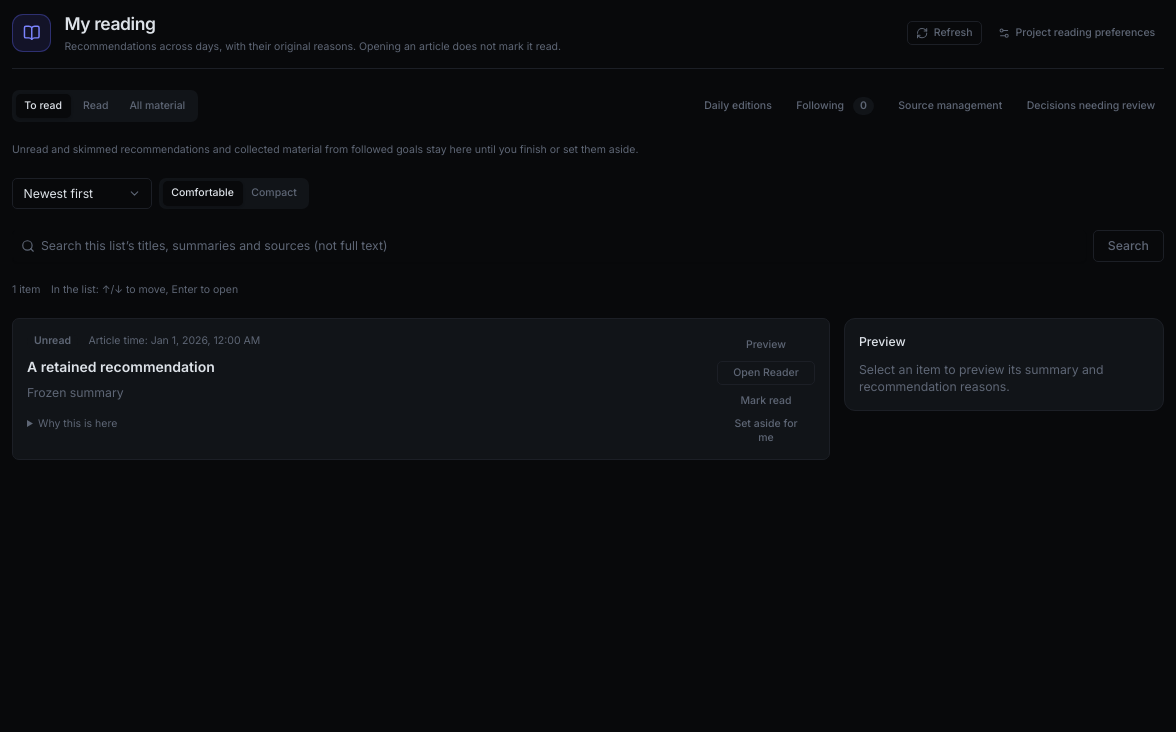
Scenario: unified reading presentation › renders server grouping, all original reasons and distinct initial/edition times, with Reader origin
Expected: the text "Original initial reason" is not shown
Click the heading "Why this is here" at [72, 424], box [27,417,117,431]
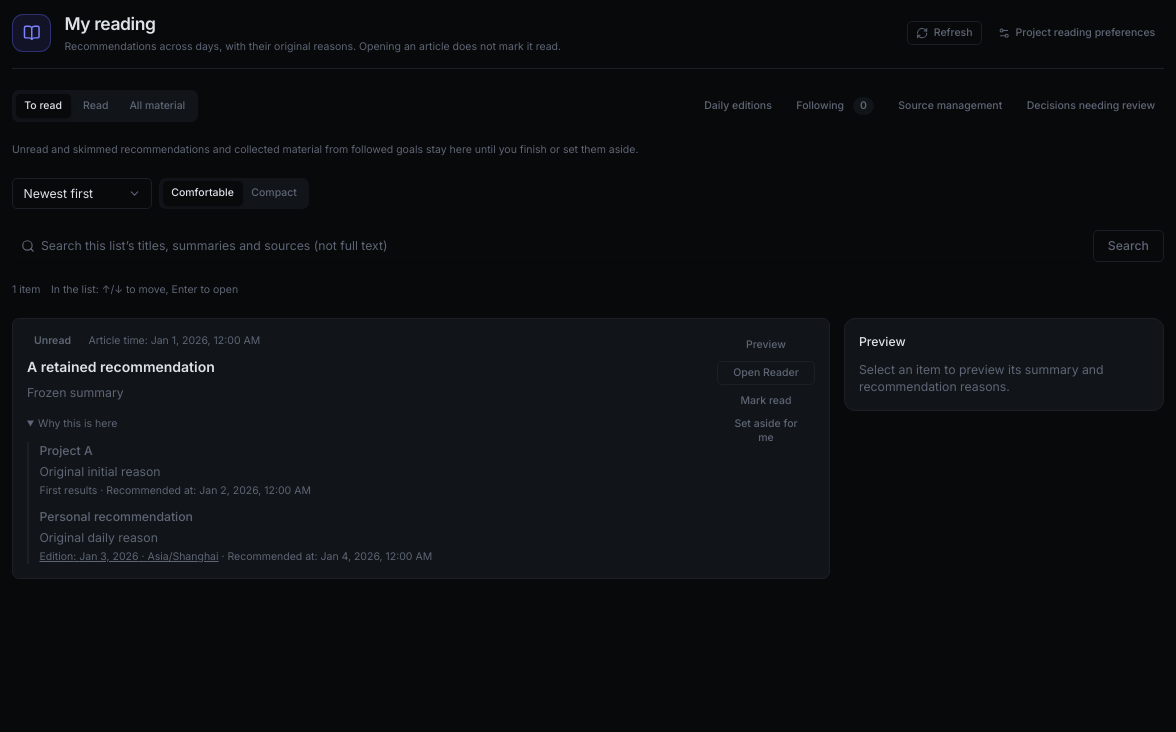
Result: the text "Original initial reason" is shown at [40,464,161,479]
Result: the text "Original daily reason" is shown at [40,530,158,545]
